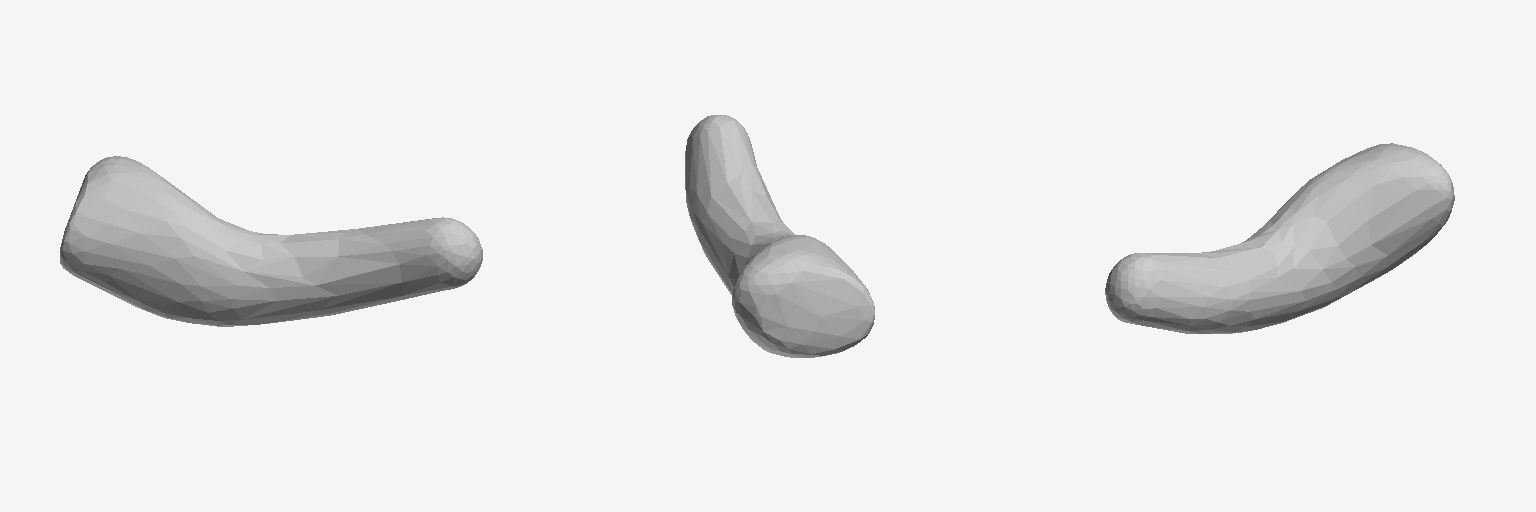
Rendered from left brachiocephalic vein.obj.
The picture shows the model from 3 angles: view 1: azimuth 30°, elevation 25°; view 2: azimuth 150°, elevation 25°; view 3: azimuth 270°, elevation 25°; orthographic projection.
Parts seen in each view (by area): view 1: grp1; view 2: grp1; view 3: grp1.
Part boxes in pixels (left/top/right/bottom): grp1: left=60, top=156, right=482, bottom=326; grp1: left=685, top=115, right=874, bottom=357; grp1: left=1105, top=143, right=1454, bottom=333.
Bounding box in the file's own units: 51.8 × 21.81 × 52.11.